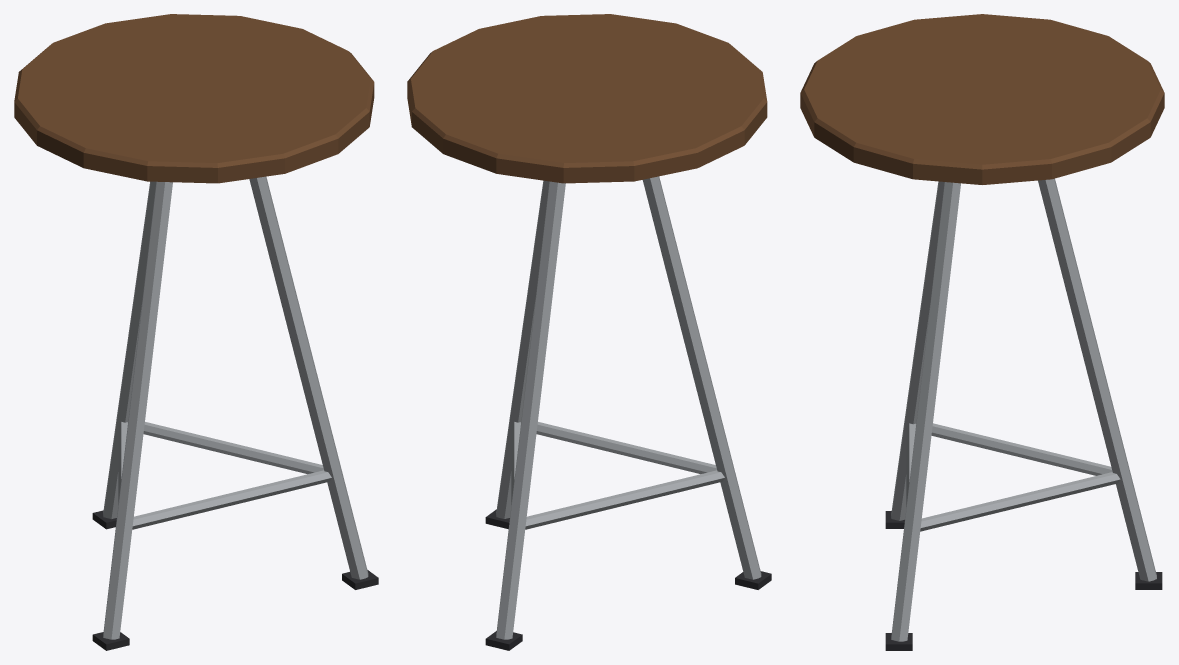
File: FN_Table_Poseur.glb
3 renders of one model, left to right at view 1: azimuth 30°, elevation 25°; view 2: azimuth 150°, elevation 25°; view 3: azimuth 270°, elevation 25°, orthographic.
Parts seen in each view (by area): view 1: FN_Table_Poseur; view 2: FN_Table_Poseur; view 3: FN_Table_Poseur.
Boxes of the visible parts, bbox=[...] form: FN_Table_Poseur: bbox=[14, 14, 378, 650]; FN_Table_Poseur: bbox=[407, 14, 771, 650]; FN_Table_Poseur: bbox=[800, 14, 1164, 650].
Bounding box in the file's own units: 0.7 × 1.05 × 0.7.
Materials: 1 (1 with a texture image).
